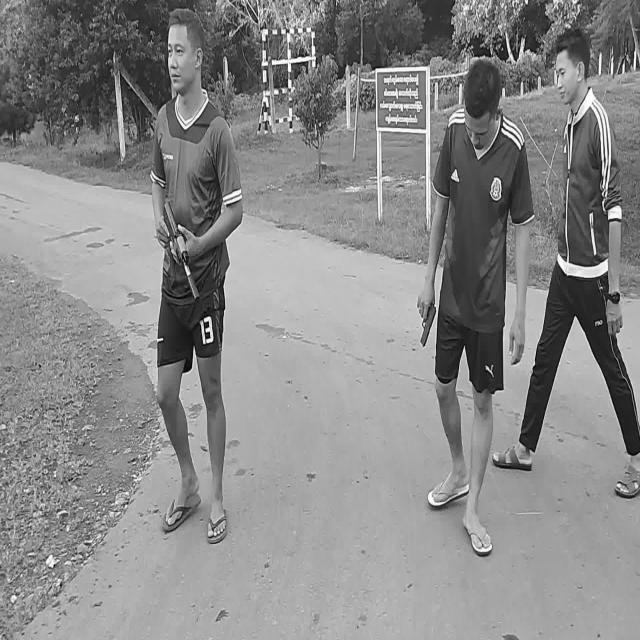gun: (164, 202, 199, 302), (419, 302, 436, 346)
